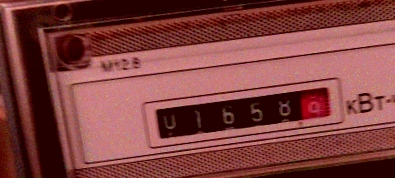0: (158, 107, 178, 130)
1: (188, 104, 205, 130)
5: (246, 97, 265, 123)
6: (217, 100, 238, 127)
8: (273, 93, 293, 117)
9: (303, 97, 322, 120)
screen: (137, 68, 350, 156)
